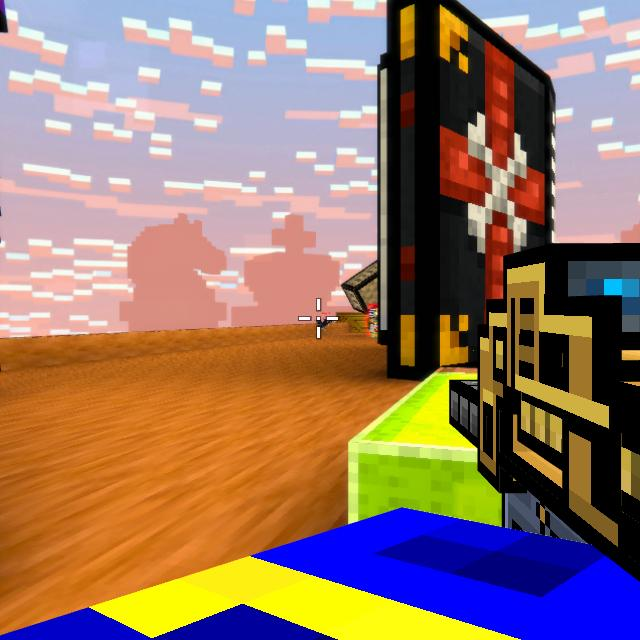Enemy: (366, 309, 378, 337)
